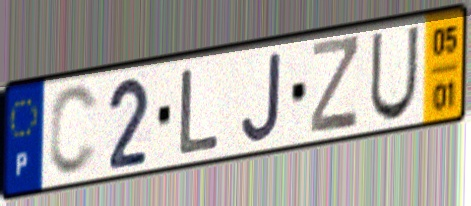2: (102, 70, 156, 177)
C: (46, 82, 102, 180)
J: (239, 48, 285, 145)
L: (176, 65, 223, 158)
U: (367, 23, 422, 125)
Z: (307, 31, 362, 136)
